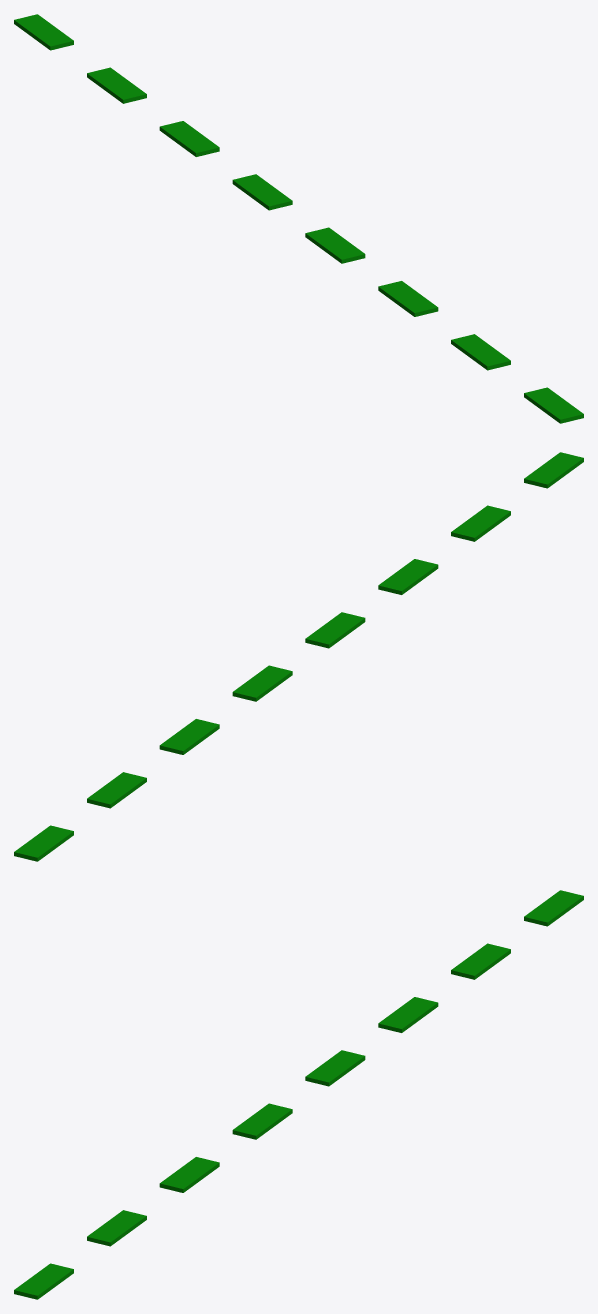
File: start_line.dae
The picture shows the model from 3 angles, top to bottom: view 1: azimuth 30°, elevation 25°; view 2: azimuth 150°, elevation 25°; view 3: azimuth 330°, elevation 25°; orthographic projection.
Parts seen in each view (by area): view 1: Plane; view 2: Plane; view 3: Plane.
Part boxes in pixels (<box>): Plane: <box>14,14,583,423</box>; Plane: <box>14,452,583,861</box>; Plane: <box>14,890,583,1299</box>.
Size of the model in its own units: 0.25 by 10 by 0.0404.
